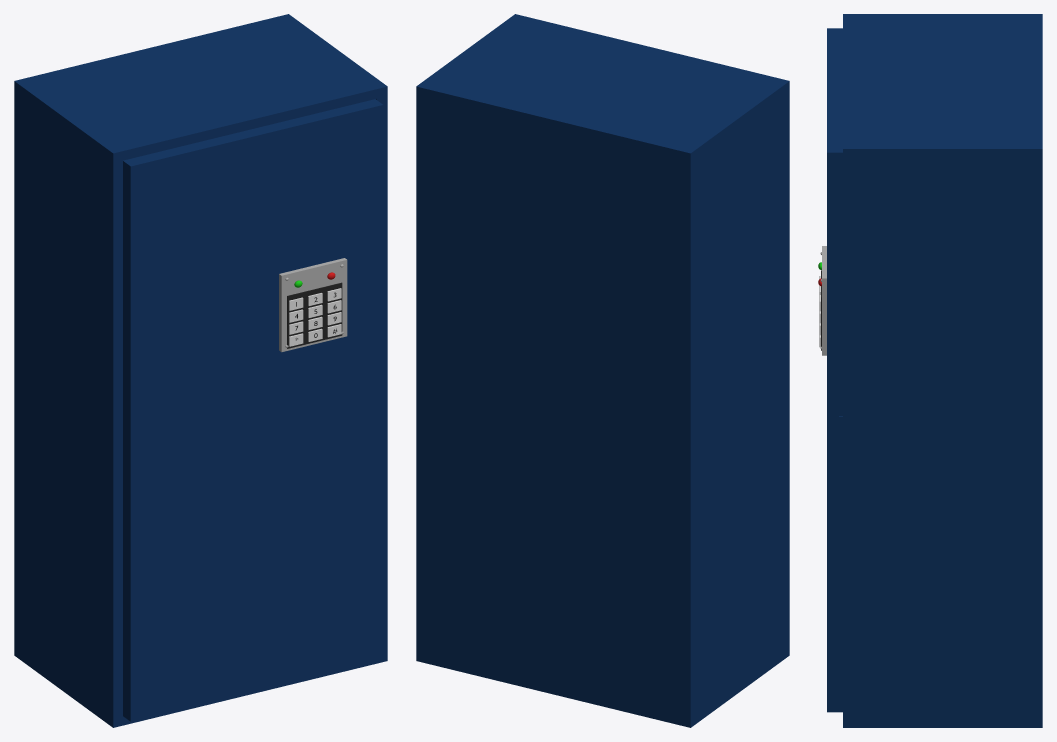
Rendered from locker.obj.
3 views of the same model, side by side, from view 1: azimuth 30°, elevation 25°; view 2: azimuth 150°, elevation 25°; view 3: azimuth 270°, elevation 25° (orthographic).
Visible parts, largest first — view 1: Locker_Door.003, Locker_Body.003, Keypad_Base.003, Keypad_Inset.001; view 2: Locker_Body.003; view 3: Locker_Body.003, Locker_Door.003, Keypad_Base.003.
Boxes of the visible parts, bbox=[...] form: Locker_Door.003: bbox=[123, 99, 383, 721]; Locker_Body.003: bbox=[14, 14, 387, 727]; Keypad_Base.003: bbox=[279, 258, 347, 352]; Keypad_Inset.001: bbox=[287, 282, 342, 348]; Locker_Body.003: bbox=[416, 14, 789, 727]; Locker_Body.003: bbox=[843, 14, 1042, 727]; Locker_Door.003: bbox=[827, 28, 842, 712]; Keypad_Base.003: bbox=[822, 246, 826, 355].
Bounding box in the file's own units: 2 × 4 × 1.4.
